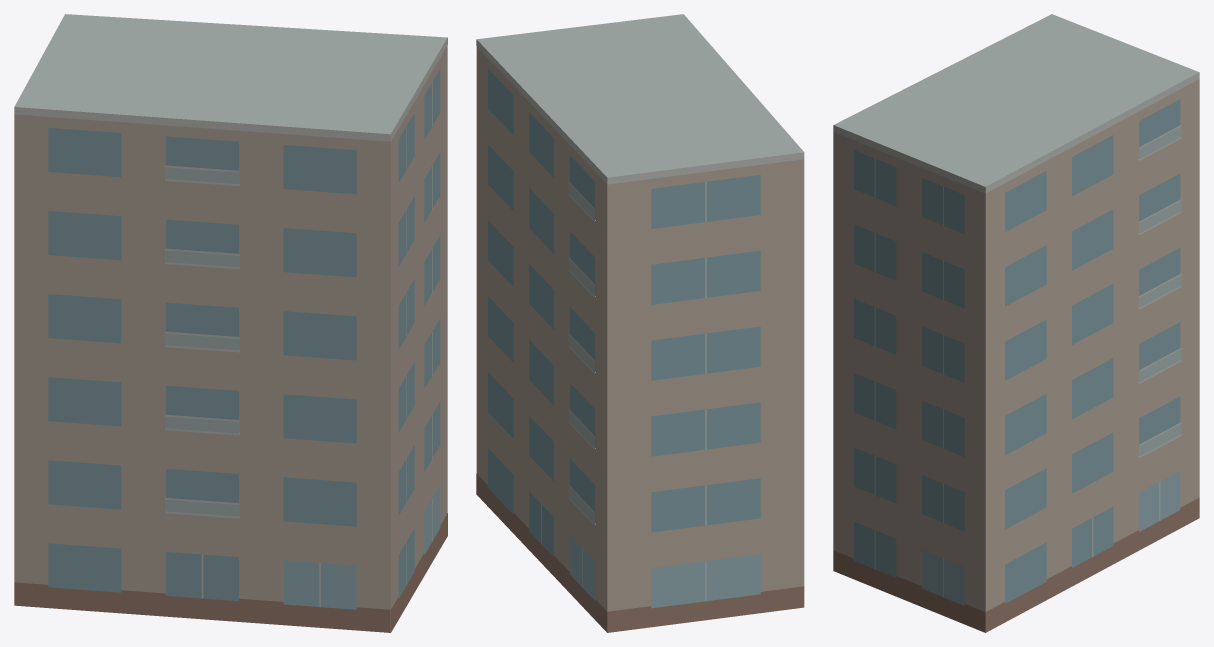
Rendered from survey-upis-32977633.glb.
3 renders of one model, left to right at view 1: azimuth 30°, elevation 25°; view 2: azimuth 150°, elevation 25°; view 3: azimuth 270°, elevation 25°, orthographic. The views are drawn at different scales.
Visible parts, largest first — view 1: survey-upis-32977633.tmp; view 2: survey-upis-32977633.tmp; view 3: survey-upis-32977633.tmp.
Part boxes in pixels (x1,y1,x2,y2): survey-upis-32977633.tmp: (14,14,447,632); survey-upis-32977633.tmp: (476,14,804,632); survey-upis-32977633.tmp: (833,14,1199,632).
Bounding box in the file's own units: 13.52 × 16.25 × 12.1.
